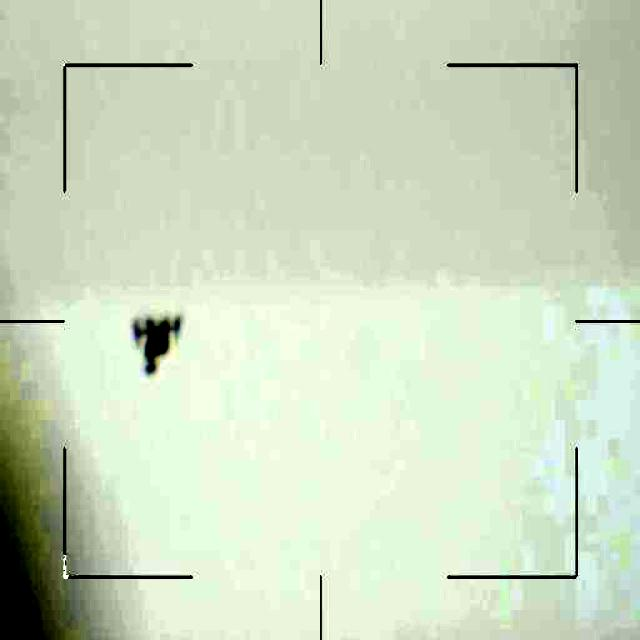bird: (124, 312, 195, 372)
